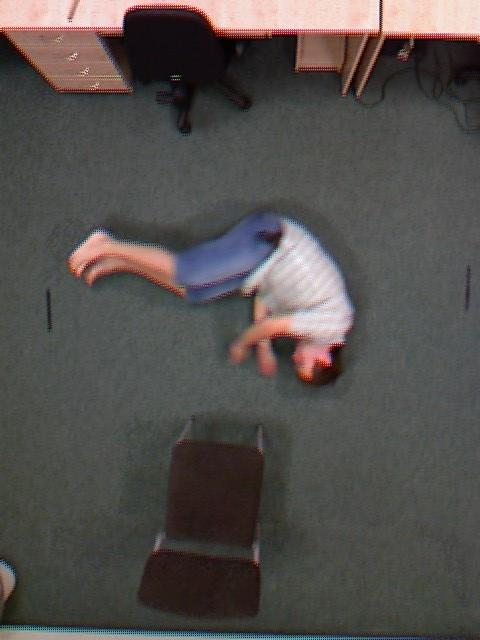fall: (138, 102, 284, 501)
